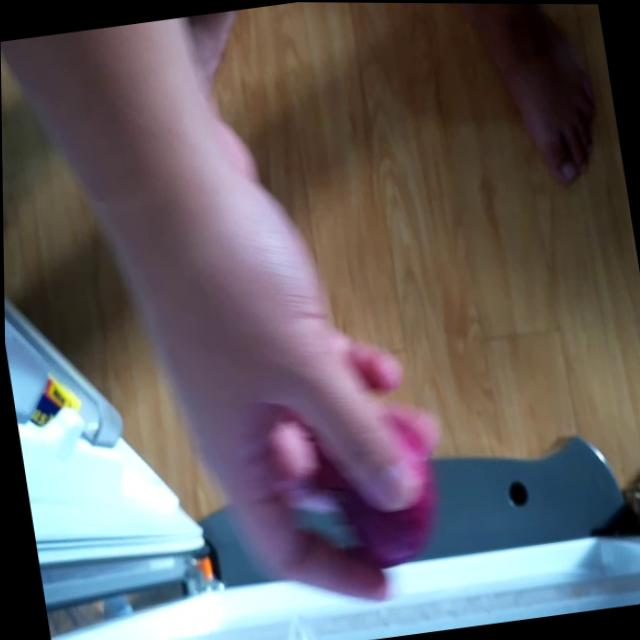onion: (324, 399, 446, 563)
